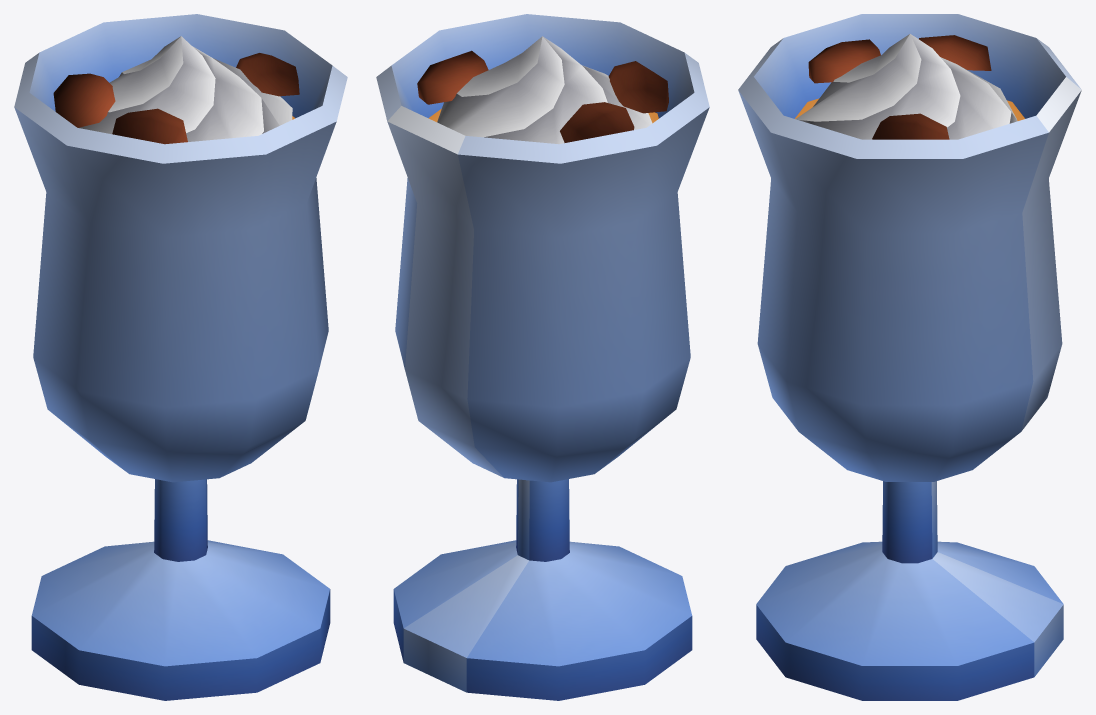
The model's file is m_Eggnog01.fbx.
The picture shows the model from 3 angles, left to right: view 1: azimuth 30°, elevation 25°; view 2: azimuth 150°, elevation 25°; view 3: azimuth 270°, elevation 25°; orthographic projection.
Parts seen in each view (by area): view 1: m_Eggnog01; view 2: m_Eggnog01; view 3: m_Eggnog01.
Part boxes in pixels (box(x1,y1,x2,y2)): m_Eggnog01: box(14, 14, 347, 700); m_Eggnog01: box(376, 14, 709, 700); m_Eggnog01: box(738, 14, 1081, 700).
Size of the model in its own units: 8.5 by 17.38 by 8.94.
